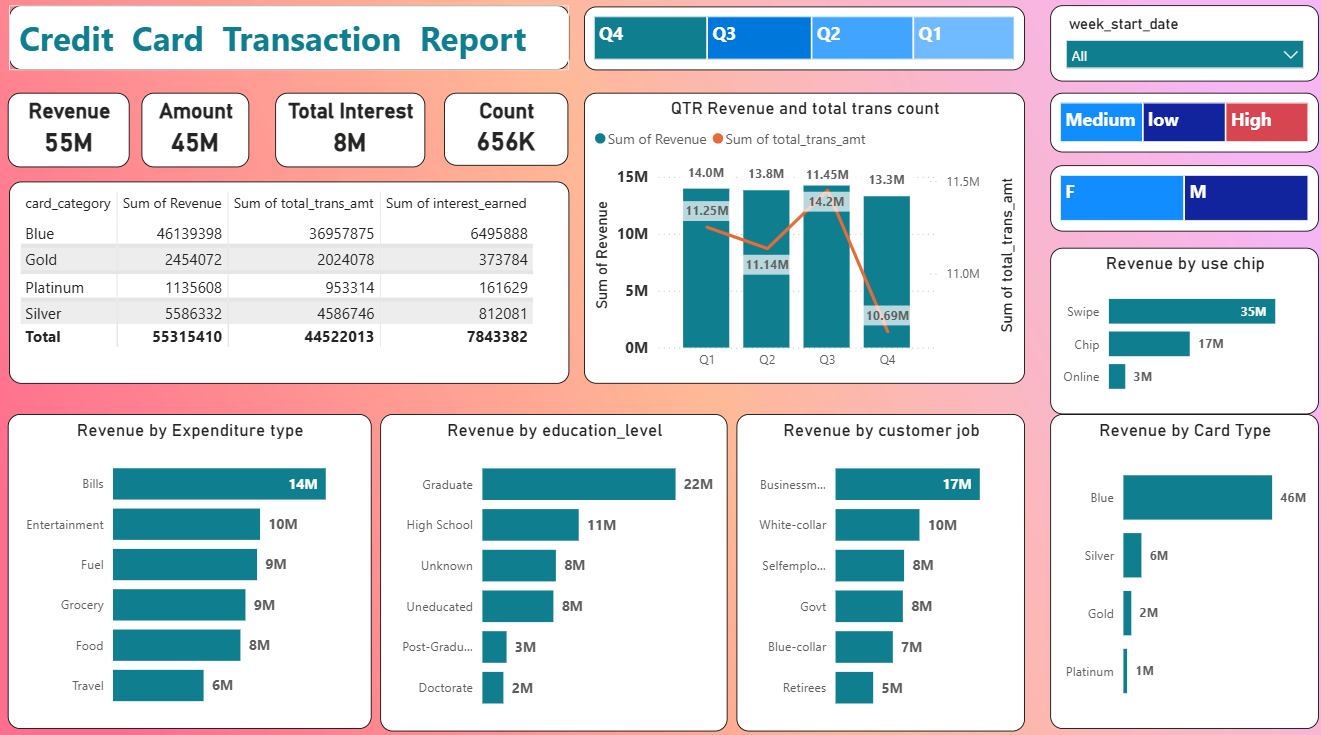

What the dashboard file says about the page in this screenshot:
{"tool":"powerbi","page":{"name":"CC_Transaction","canvas":[1280,720],"ordinal":1},"visuals":[{"type":"textbox","box":[9.7,10.9,540.5,62.7],"z":0},{"type":"lineStackedColumnComboChart","title":"QTR Revenue and total trans count","fields":{"Category":["public cc_detail.qtr"],"Y":["Sum(public cc_detail.Revenue)"],"Y2":["Sum(public cc_detail.total_trans_amt)"]},"box":[564.6,95.3,425.9,281.1],"z":1000},{"type":"barChart","title":"Revenue by Expenditure type","fields":{"Y":["Sum(public cc_detail.Revenue)"],"Category":["public cc_detail.exp_type"]},"box":[8.4,405.4,351.1,304],"z":2000},{"type":"barChart","title":" Revenue by education_level","fields":{"Category":["public cust_detail.education_level"],"Y":["Sum(public cc_detail.Revenue)"]},"box":[368,405.4,335.4,306.4],"z":3000},{"type":"barChart","title":" Revenue by customer job","fields":{"Y":["Sum(public cc_detail.Revenue)"],"Category":["public cust_detail.customer_job"]},"box":[711.8,405.4,278.7,306.4],"z":4000},{"type":"barChart","title":" Revenue by Card Type","fields":{"Y":["Sum(public cc_detail.Revenue)"],"Category":["public cc_detail.card_category"]},"box":[1014.6,405.4,259.4,304],"z":5000},{"type":"barChart","title":" Revenue by use chip","fields":{"Y":["Sum(public cc_detail.Revenue)"],"Category":["public cc_detail.use_chip"]},"box":[1014.6,244.9,259.4,160.5],"z":6000},{"type":"tableEx","fields":{"Values":["public cc_detail.card_category","Sum(public cc_detail.Revenue)","Sum(public cc_detail.total_trans_amt)","Sum(public cc_detail.interest_earned)"]},"box":[9.7,181,540.5,195.4],"z":7000},{"type":"card","title":"Revenue","fields":{"Values":["Sum(public cc_detail.Revenue)"]},"box":[9,94.9,117.5,72.3],"z":8000},{"type":"card","title":"Amount","fields":{"Values":["Sum(public cc_detail.total_trans_amt)"]},"box":[137.9,94.9,104,72.3],"z":9000},{"type":"card","title":"Total Interest","fields":{"Values":["Sum(public cc_detail.interest_earned)"]},"box":[266.7,94.9,144.6,72.3],"z":10000},{"type":"card","title":"Count","fields":{"Values":["Sum(public cc_detail.total_trans_ct)"]},"box":[429.4,94.9,119.8,70.1],"z":11000},{"type":"slicer","fields":{"Values":["public cc_detail.week_start_date"]},"box":[1014.6,10.9,259.4,73.6],"z":12000},{"type":"treemap","fields":{"Values":["Avg(public cc_detail.client_num)"],"Group":["public cust_detail.gender"]},"box":[1014.6,165.3,259.4,63.9],"z":13000},{"type":"treemap","fields":{"Group":["public cc_detail.qtr"],"Values":["Avg(public cc_detail.client_num)"]},"box":[564.6,12.1,425.9,61.5],"z":14000},{"type":"treemap","fields":{"Values":["Avg(public cc_detail.client_num)"],"Group":["public cust_detail.IncomeGroup"]},"box":[1014.6,95.3,259.4,57.9],"z":15000}]}

Visuals, with their boxes in screenshot pixels (x1, y1, x2, y2), scaled from the page's 1280x720 canvas onto the 1321x735 screenshot:
textbox: 10, 11, 568, 75
"QTR Revenue and total trans count" lineStackedColumnComboChart: 583, 97, 1022, 384
"Revenue by Expenditure type" barChart: 9, 414, 371, 724
" Revenue by education_level" barChart: 380, 414, 726, 727
" Revenue by customer job" barChart: 735, 414, 1022, 727
" Revenue by Card Type" barChart: 1047, 414, 1315, 724
" Revenue by use chip" barChart: 1047, 250, 1315, 414
tableEx - public cc_detail.card_category x Sum(public cc_detail.Revenue): 10, 185, 568, 384
"Revenue" card: 9, 97, 131, 171
"Amount" card: 142, 97, 250, 171
"Total Interest" card: 275, 97, 424, 171
"Count" card: 443, 97, 567, 168
slicer - public cc_detail.week_start_date: 1047, 11, 1315, 86
treemap - Avg(public cc_detail.client_num) x public cust_detail.gender: 1047, 169, 1315, 234
treemap - public cc_detail.qtr x Avg(public cc_detail.client_num): 583, 12, 1022, 75
treemap - Avg(public cc_detail.client_num) x public cust_detail.IncomeGroup: 1047, 97, 1315, 156
